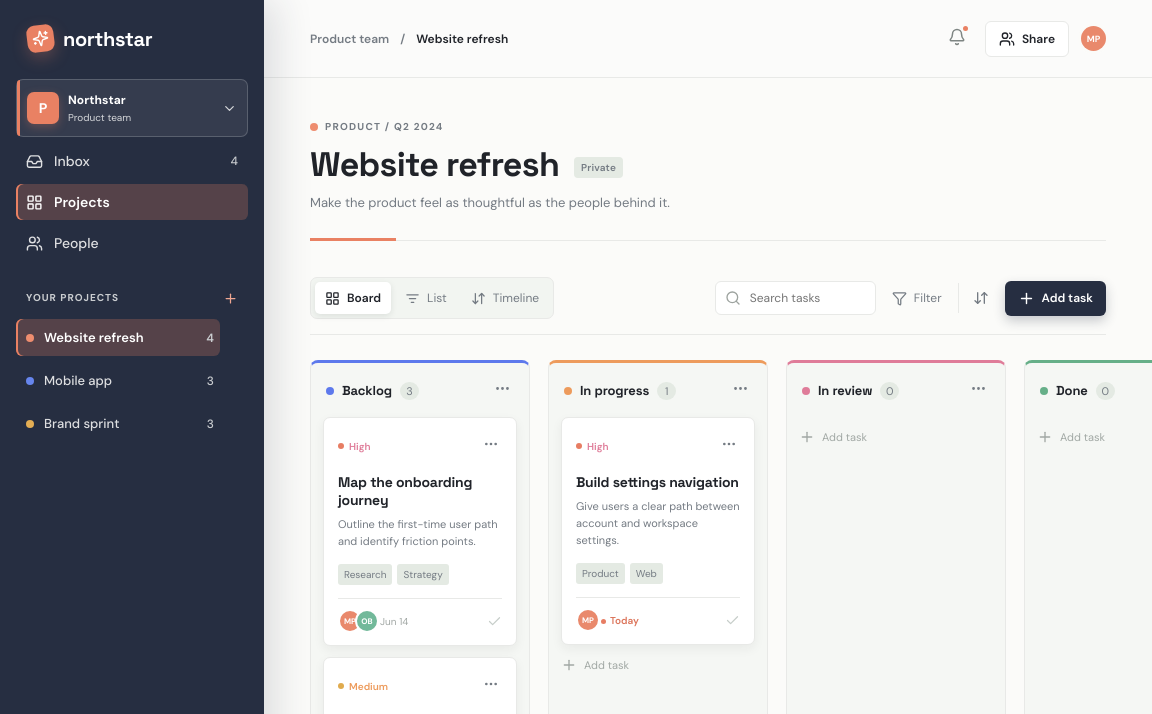
Test: Person profile modal › closing profile modal removes it from the DOM
What coordinates should you click on to do the following:
click the button "People"
I would click on:
 (132, 243)
Its box is [16,225,248,261].
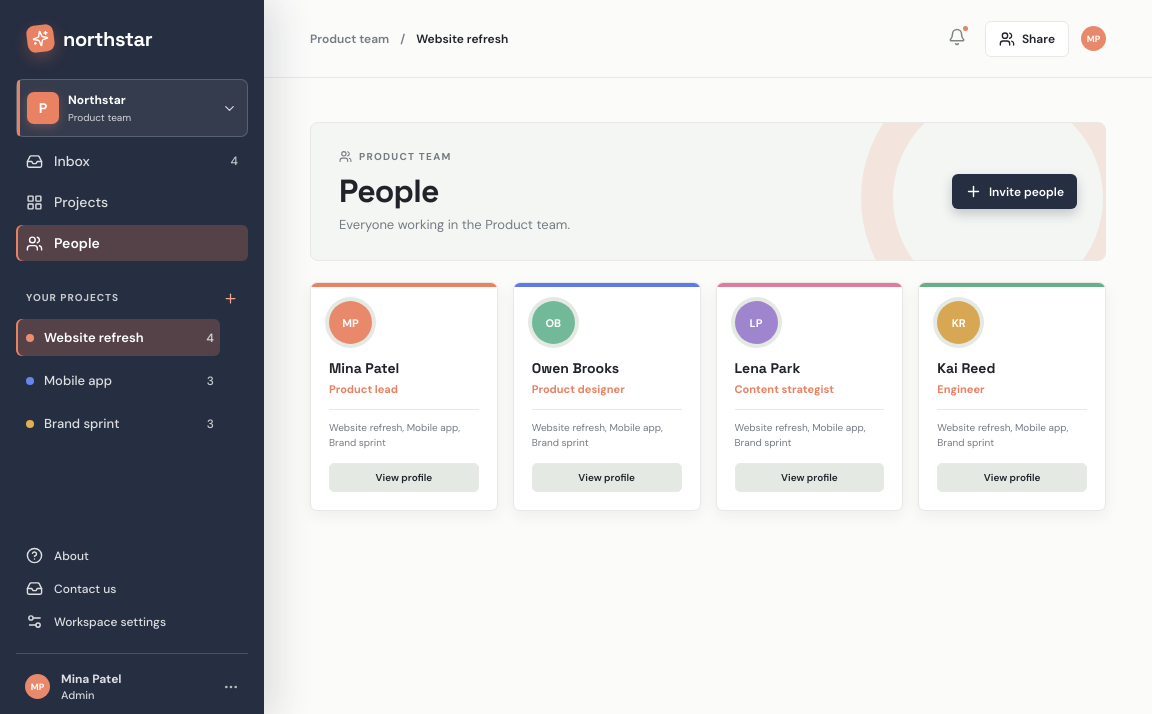
What coordinates should you click on to do the following:
click the button "View profile" below "Product lead"
I would click on:
 (404, 478)
Its box is [329,463,479,492].
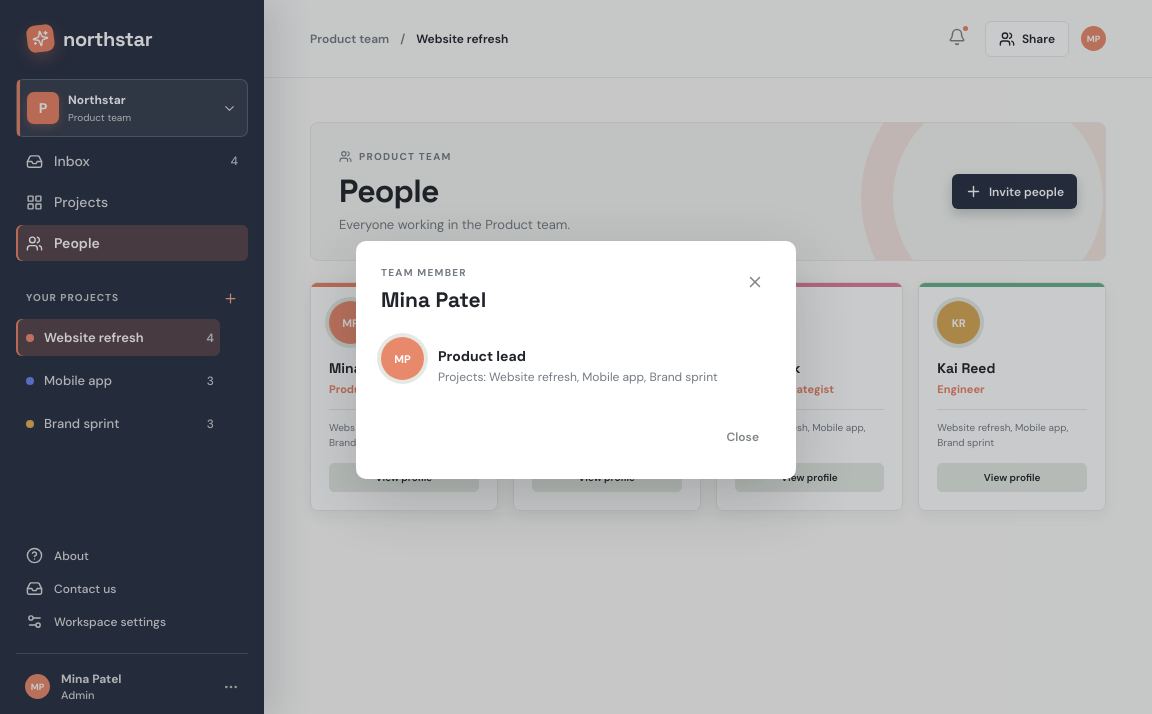
What coordinates should you click on to do the following:
click the button named "Close"
I would click on:
 (755, 284)
Its box is [739,266,771,302].
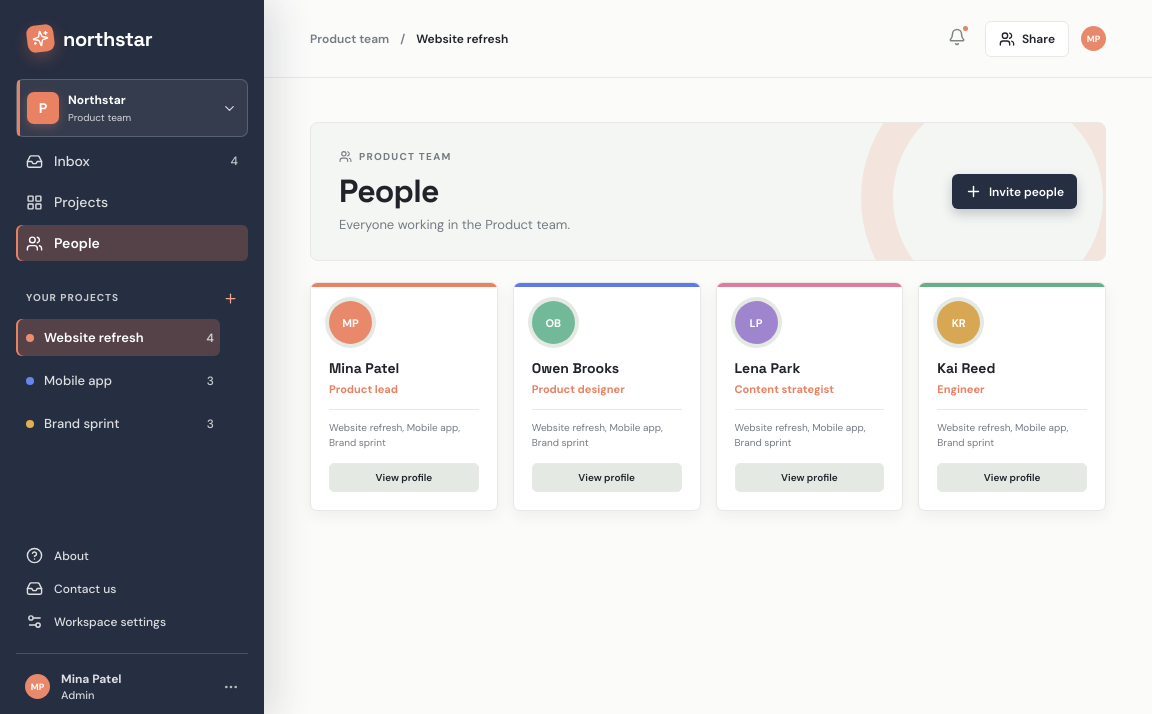
Check: the text "TEAM MEMBER" is gone
